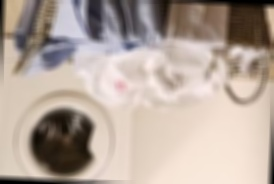lipstick: (112, 78, 130, 96)
